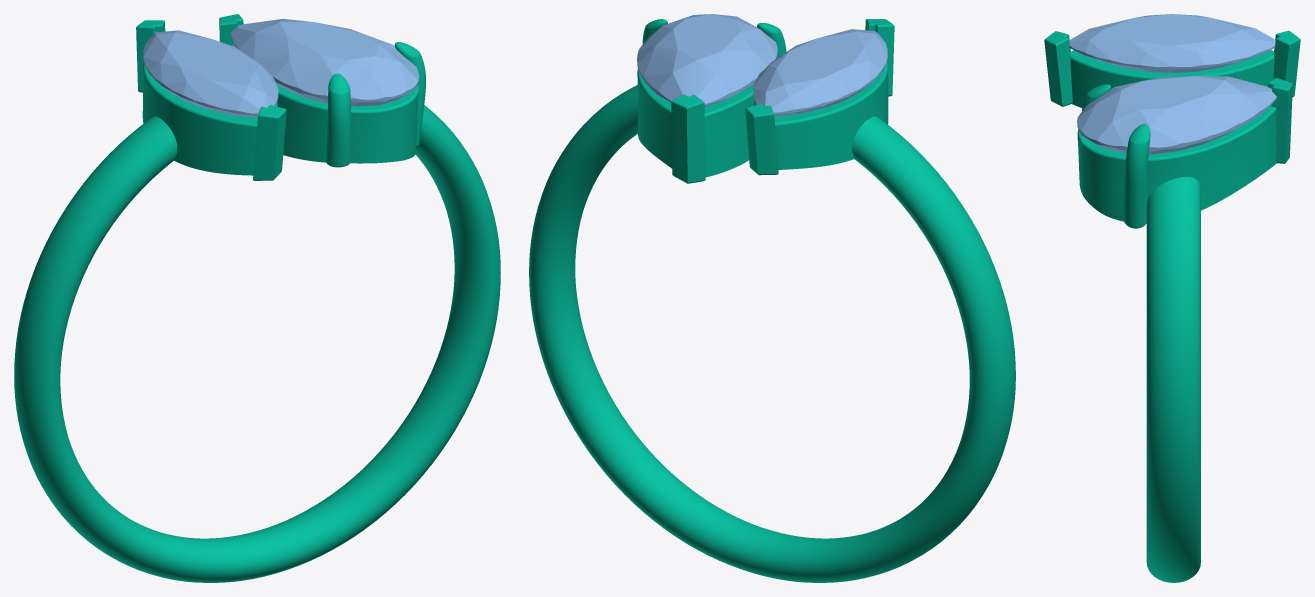
3 views of the same model, side by side, from view 1: azimuth 30°, elevation 25°; view 2: azimuth 150°, elevation 25°; view 3: azimuth 270°, elevation 25° (orthographic). The views are drawn at different scales.
Parts seen in each view (by area): view 1: 2 stone.3dm, Diamond_Pear, Diamond_Marquise; view 2: 2 stone.3dm, Diamond_Pear, Diamond_Marquise; view 3: 2 stone.3dm, Diamond_Pear, Diamond_Marquise.
Part boxes in pixels (x1,y1,x2,y2): 2 stone.3dm: (14,14,500,582); Diamond_Pear: (231,18,419,106); Diamond_Marquise: (143,30,278,117); 2 stone.3dm: (529,19,1015,582); Diamond_Pear: (637,14,777,106); Diamond_Marquise: (753,29,887,116); 2 stone.3dm: (1044,30,1300,582); Diamond_Pear: (1077,76,1276,154); Diamond_Marquise: (1069,14,1275,72).
Bounding box in the file's own units: 2.61 × 2.76 × 1.26.
